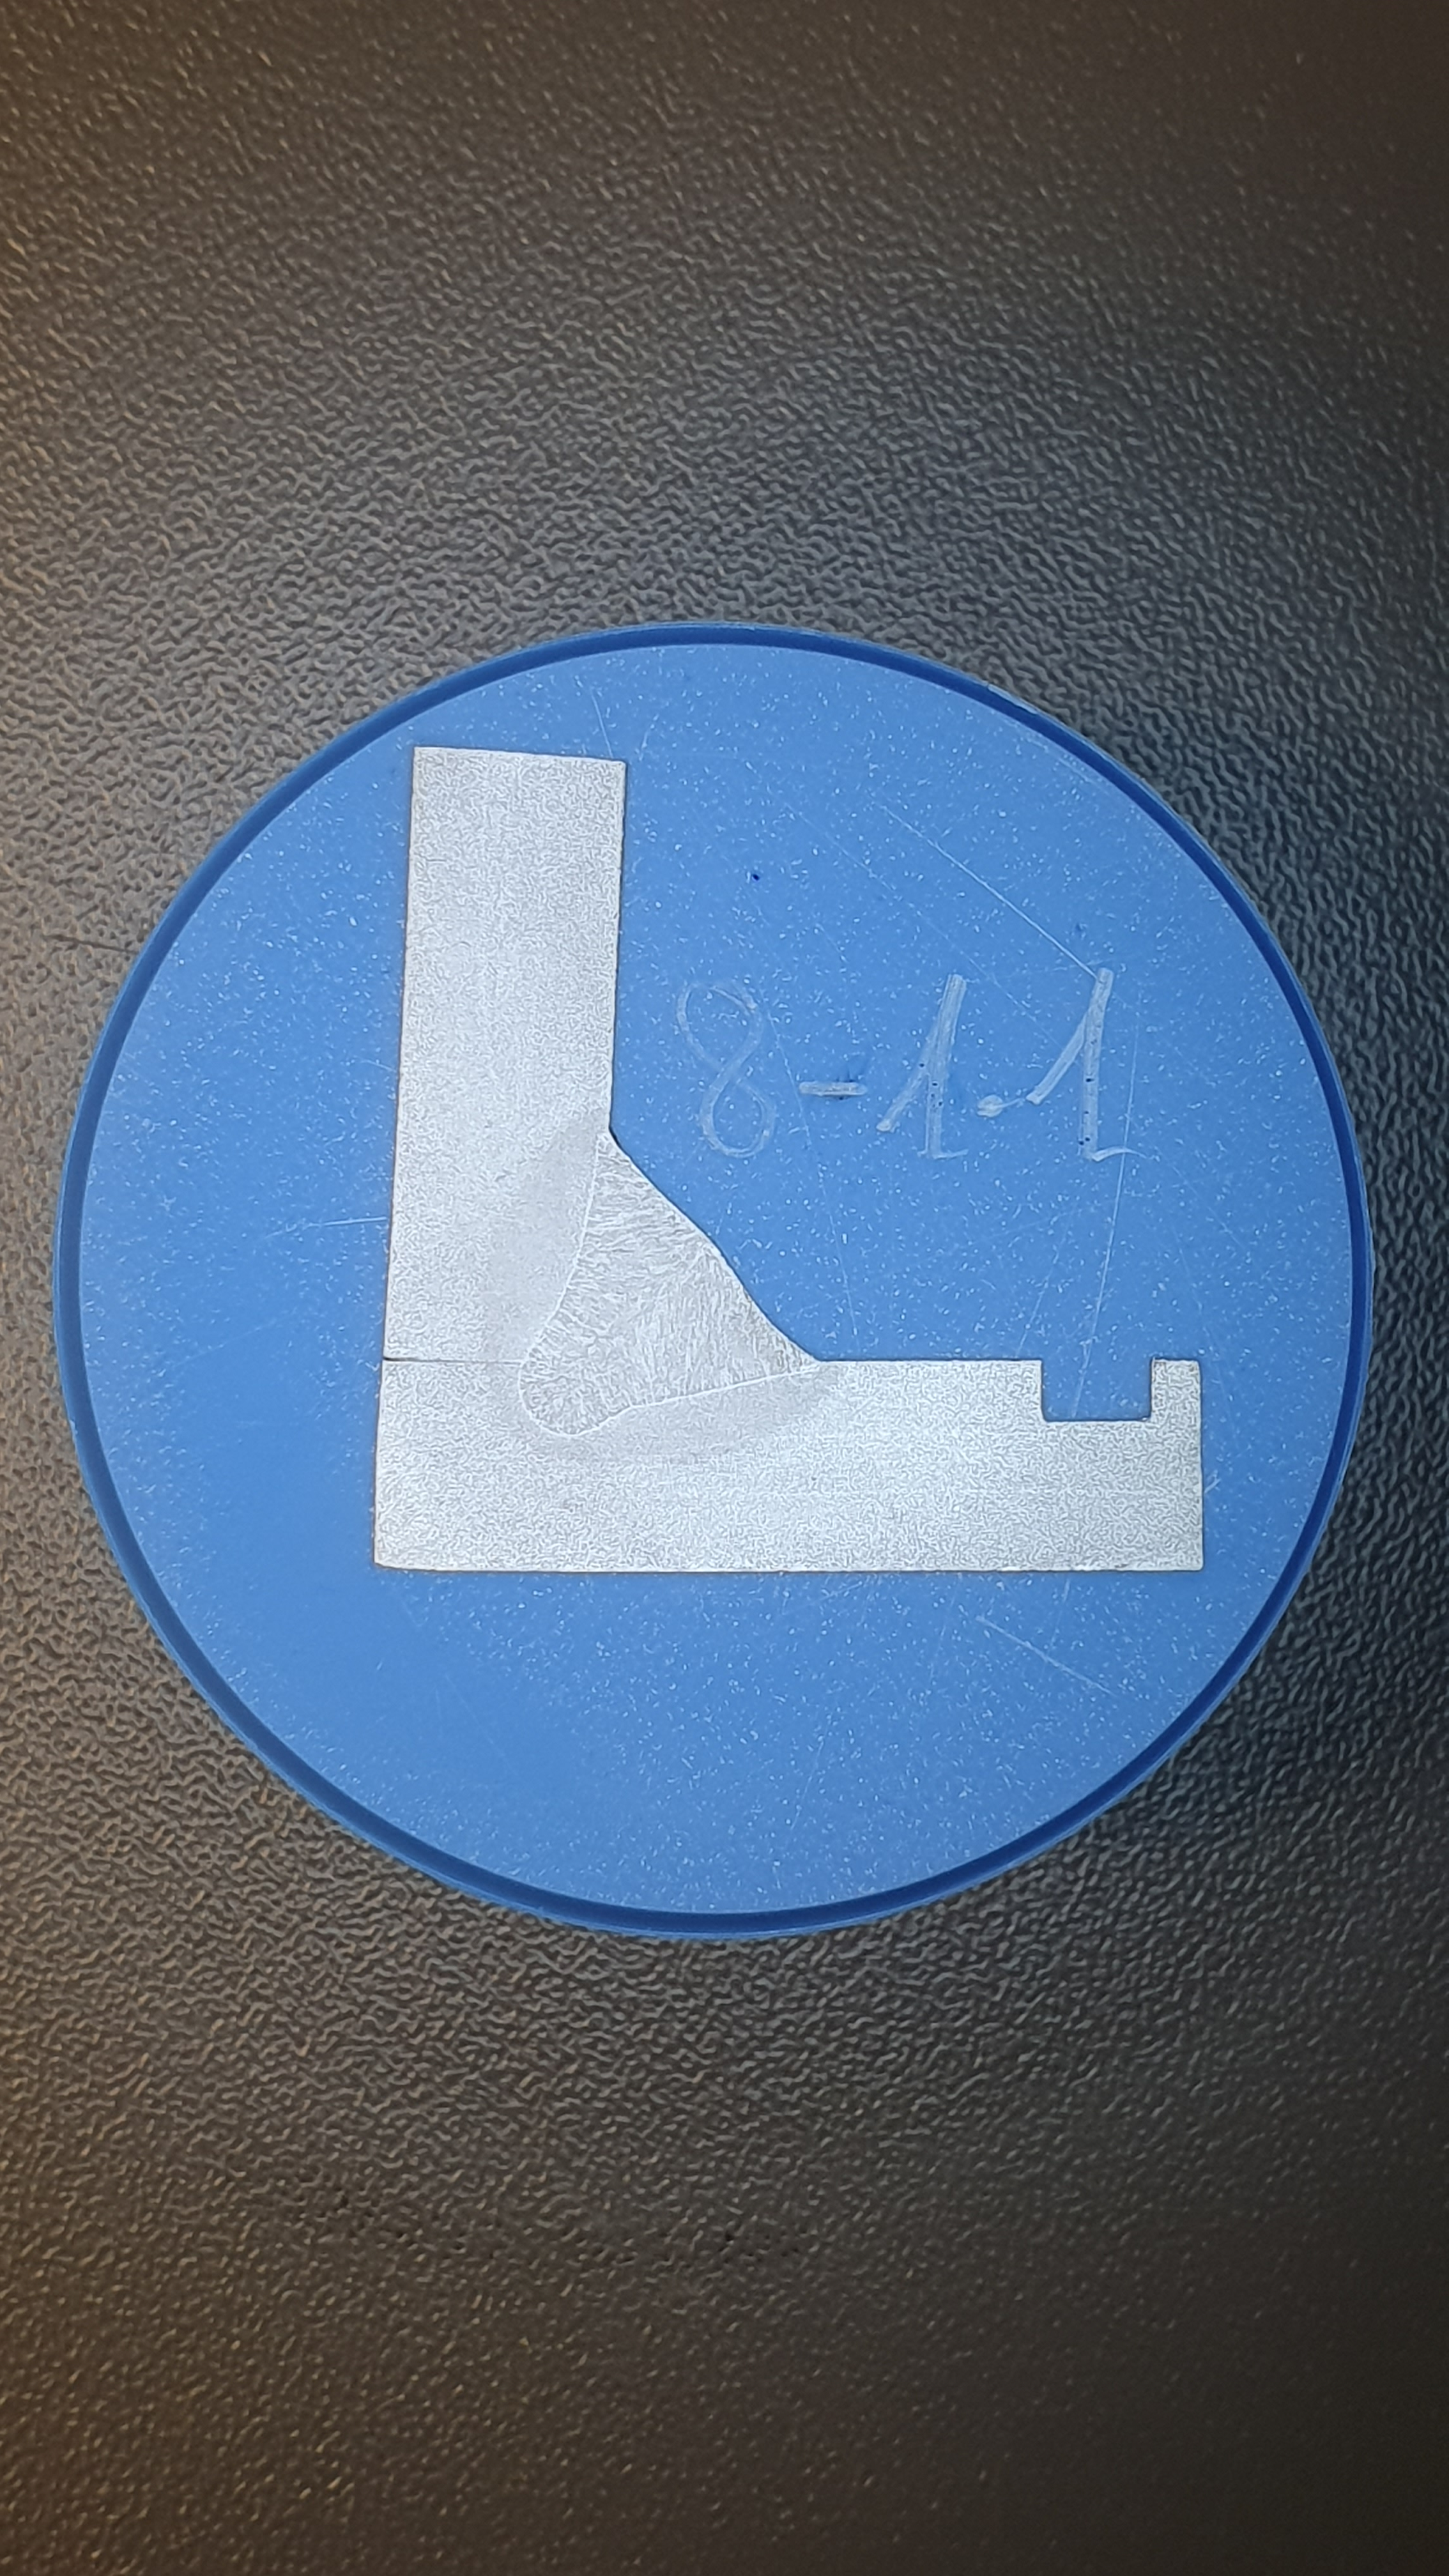Fusion: (518, 1132, 823, 1437)
Hintergrund: (81, 642, 1352, 1911)
Metall: (373, 747, 1205, 1573)
Nebenbereich: (481, 1111, 840, 1467)
